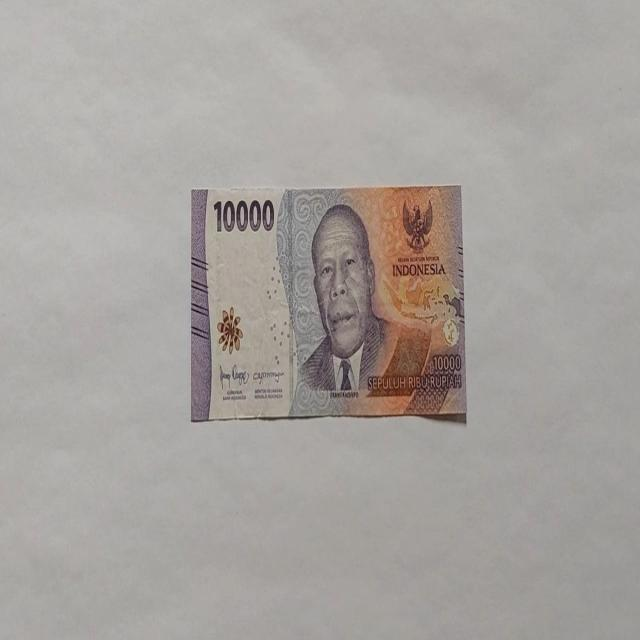Kertas: (190, 183, 467, 423), (213, 196, 275, 234)
